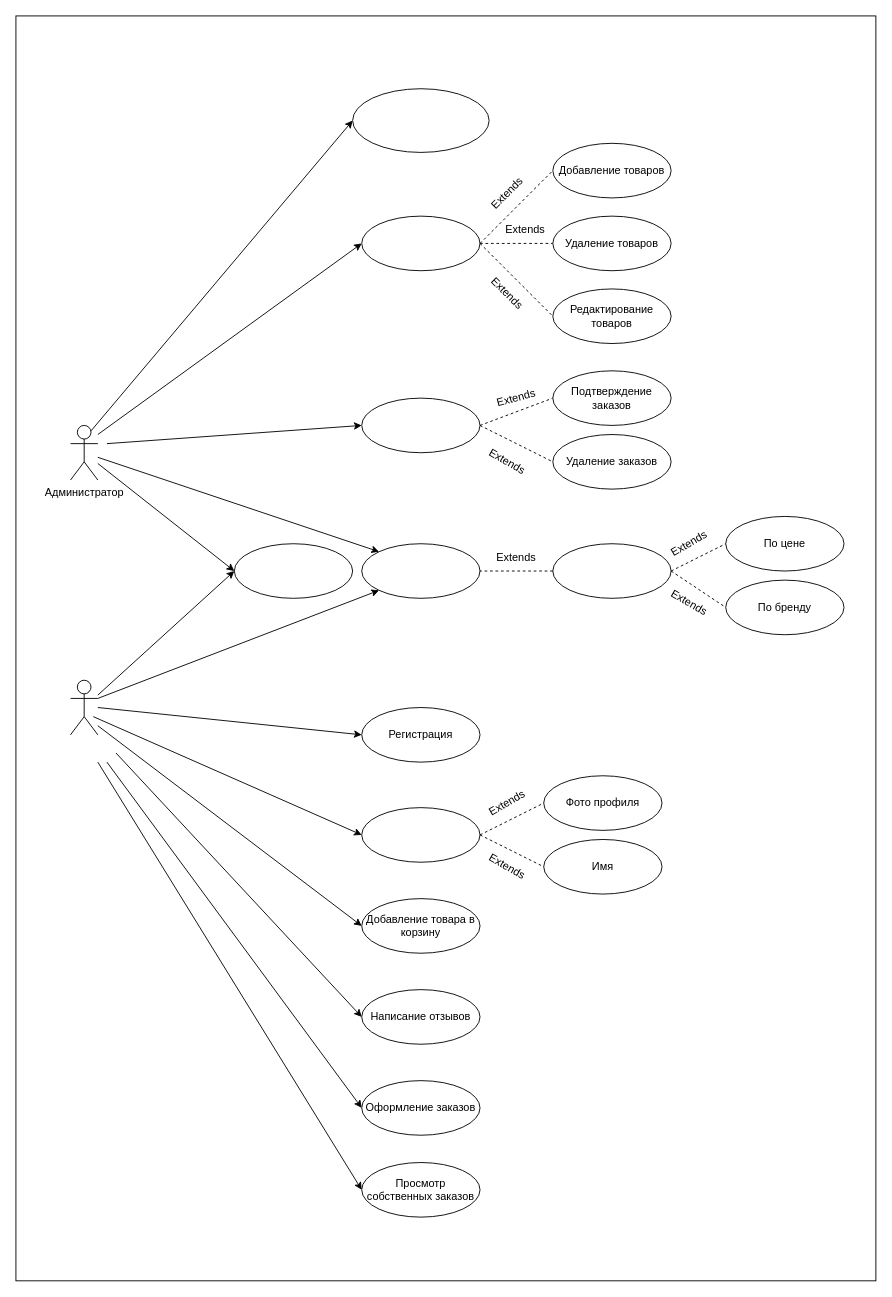
The diagram is 892 pixels wide and 1297 high, and some of its shapes have lost their labels. The centre of each missing label's shape, as x and y in pixels:
Авторизация: (293,570)
Выполнение фильтрации: (611,570)
Покупатель: (84,707)
Просмотр каталога: (420,570)
Редактирование данных пользователей: (420,120)
Смена данных аккаунта: (420,834)
Управление заказами: (420,425)
Управление товарами: (420,243)
